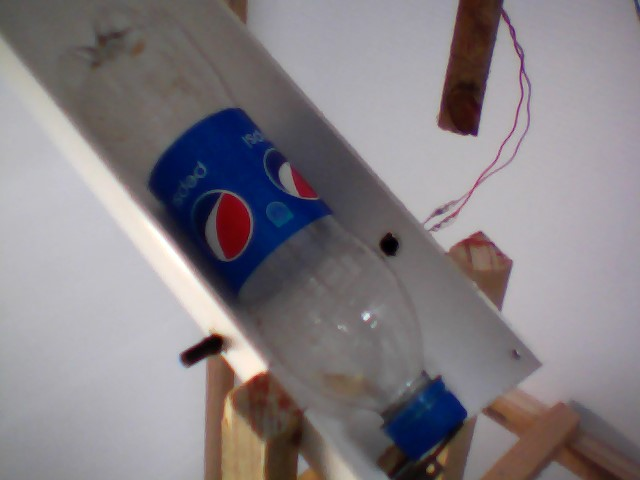plastico: (48, 6, 478, 464)
